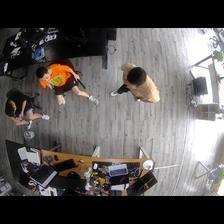normal: (37, 65, 104, 110), (110, 63, 160, 106), (4, 96, 48, 130)
